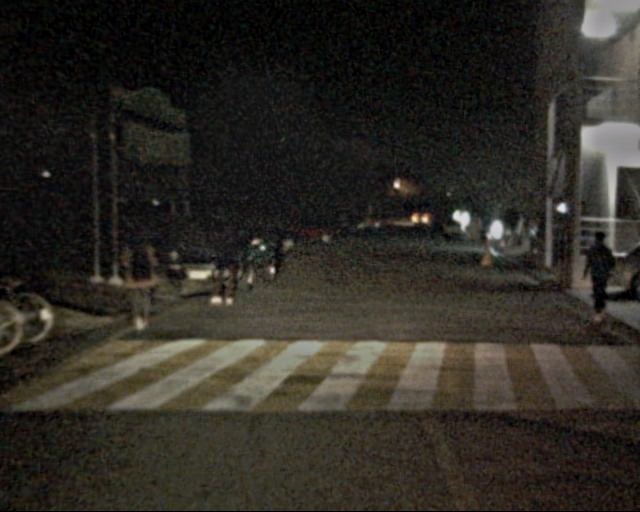person: (119, 224, 166, 334), (579, 234, 620, 328), (207, 218, 249, 308)
